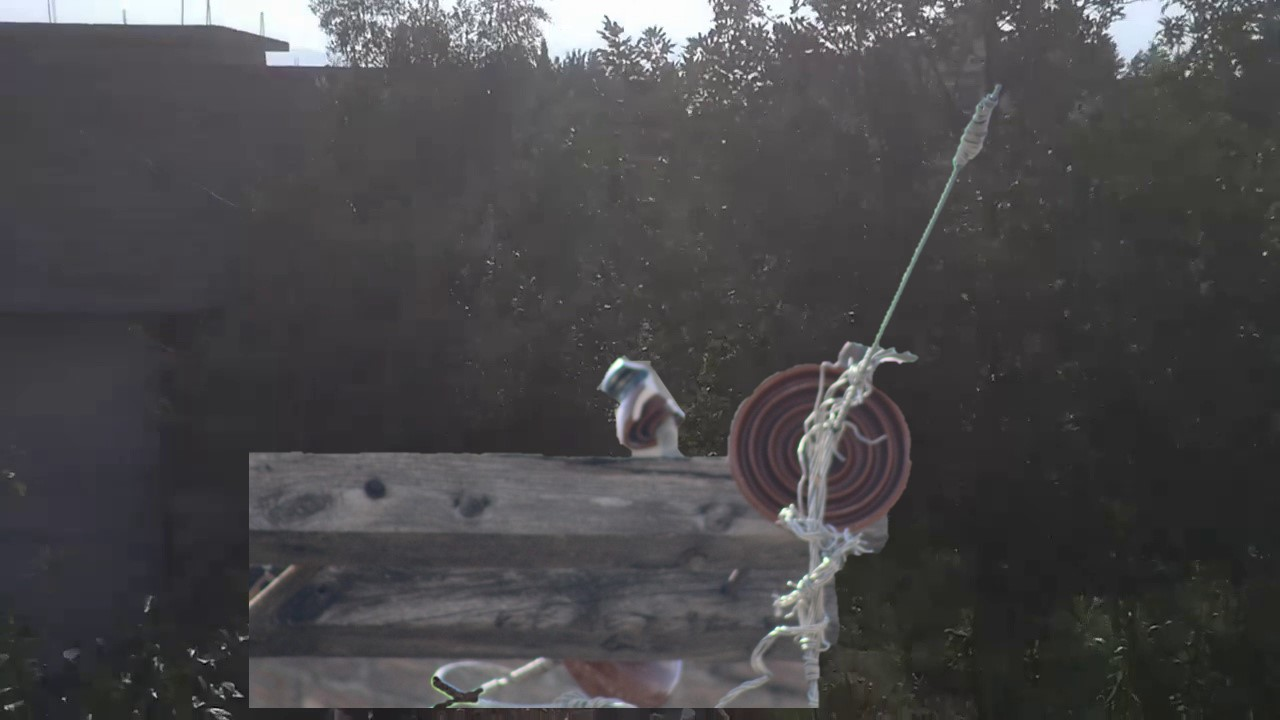defect_pin: (596, 350, 687, 461)
insulator_disc: (728, 357, 918, 538)
